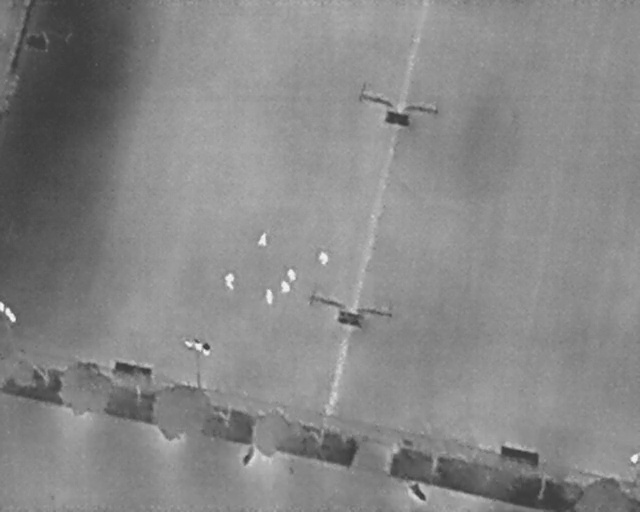Person: (224, 273, 235, 290), (318, 251, 329, 265), (287, 268, 296, 283), (266, 289, 274, 305), (258, 232, 267, 246), (281, 281, 290, 293)
